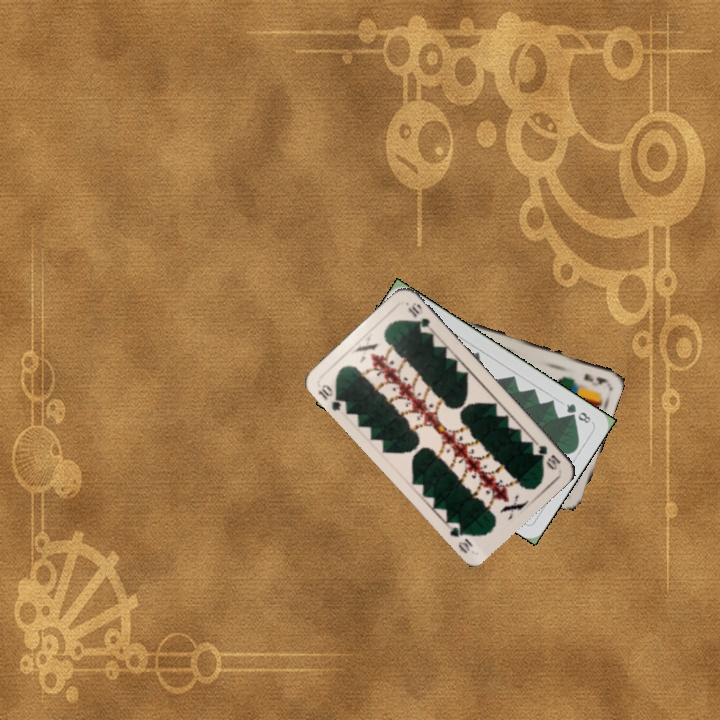EK: (579, 369, 609, 387)
G10: (528, 437, 563, 473), (314, 380, 349, 413)
G8: (562, 399, 594, 426)
